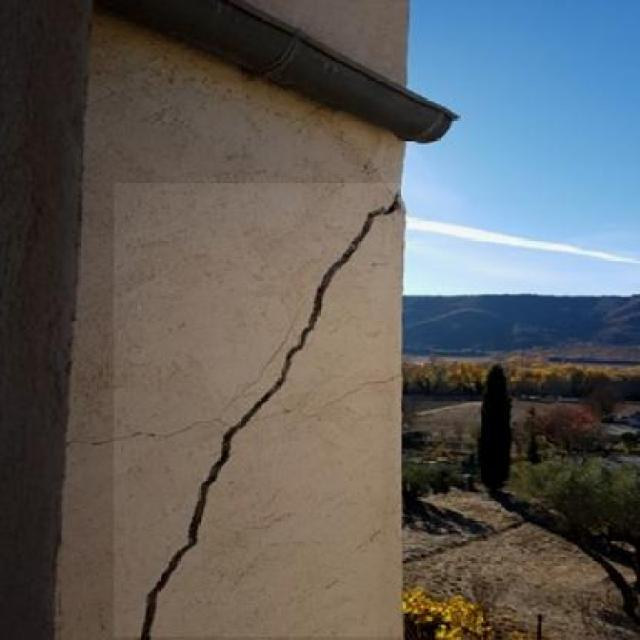Crack: (77, 183, 384, 639), (90, 401, 191, 461), (281, 380, 387, 436), (198, 318, 233, 420), (240, 312, 261, 364)
